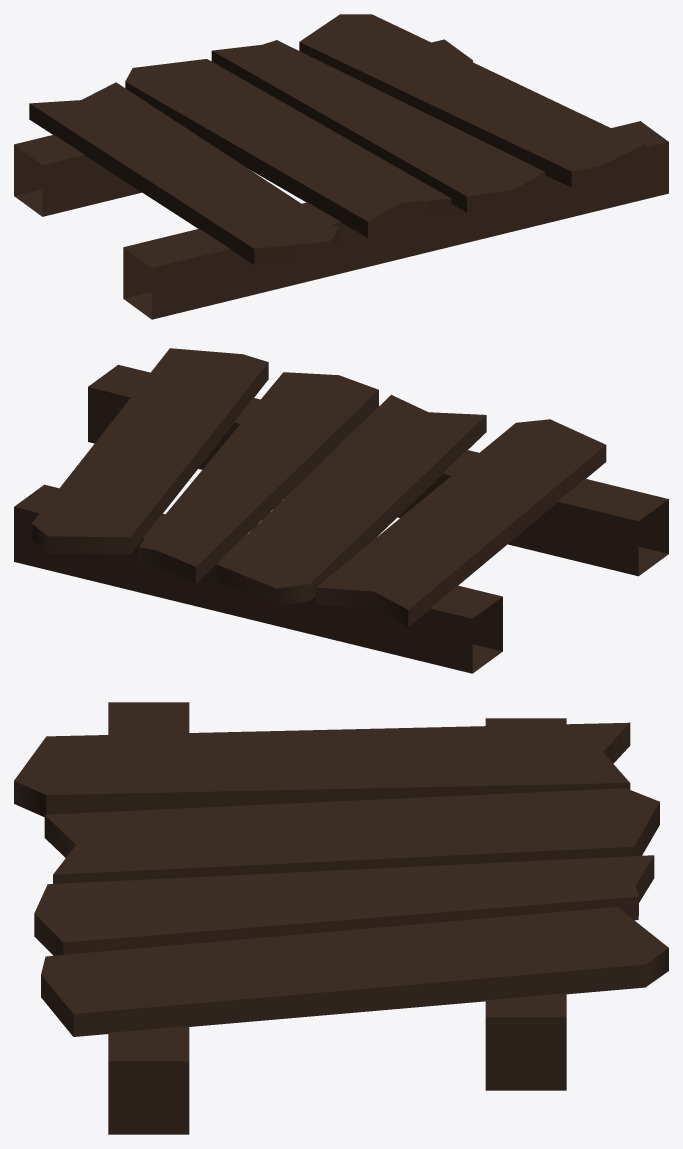
File: envi_woodAttic1.fbx
3 views of the same model, one above another, from view 1: azimuth 30°, elevation 25°; view 2: azimuth 150°, elevation 25°; view 3: azimuth 270°, elevation 25° (orthographic). The views are drawn at different scales.
Parts seen in each view (by area): view 1: pCube22; view 2: pCube22; view 3: pCube22.
Part boxes in pixels (bbox=[...]): pCube22: bbox=[14, 14, 668, 319]; pCube22: bbox=[14, 348, 668, 673]; pCube22: bbox=[14, 702, 668, 1134].
Size of the model in its own units: 3.68 by 0.456 by 2.84.
